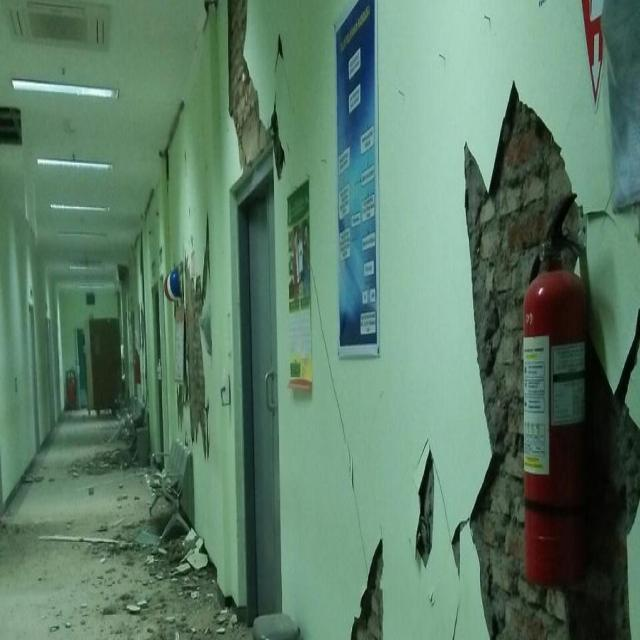damage: (440, 68, 640, 638), (59, 515, 255, 640), (307, 256, 371, 529), (163, 248, 223, 448), (207, 0, 268, 165), (52, 439, 160, 510), (326, 530, 395, 640), (409, 424, 441, 589), (268, 34, 293, 194)
